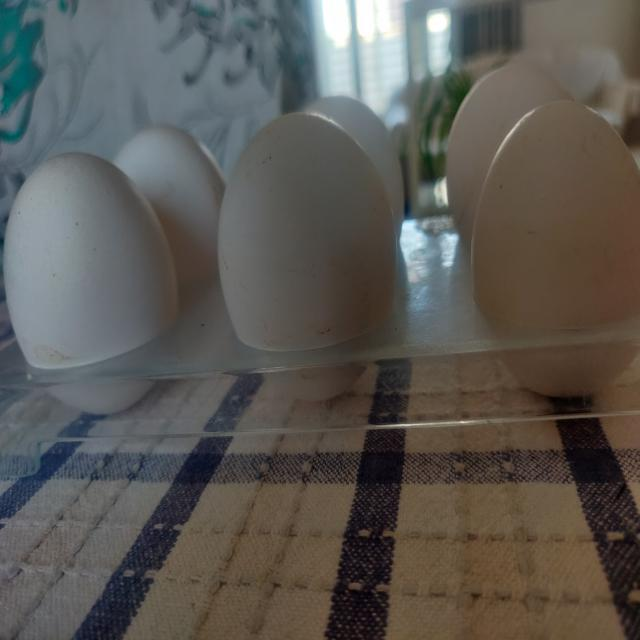Egg: (218, 112, 397, 351), (472, 100, 640, 328), (3, 152, 178, 368), (113, 125, 225, 284), (502, 341, 640, 397)
